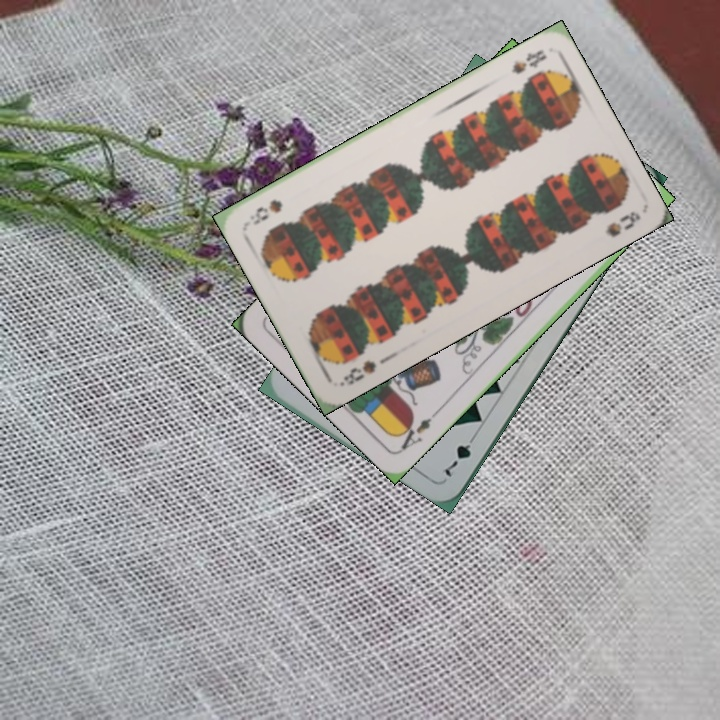EA: (391, 413, 434, 454)
G7: (439, 429, 480, 480)
S8: (335, 356, 379, 389), (507, 45, 550, 77)
